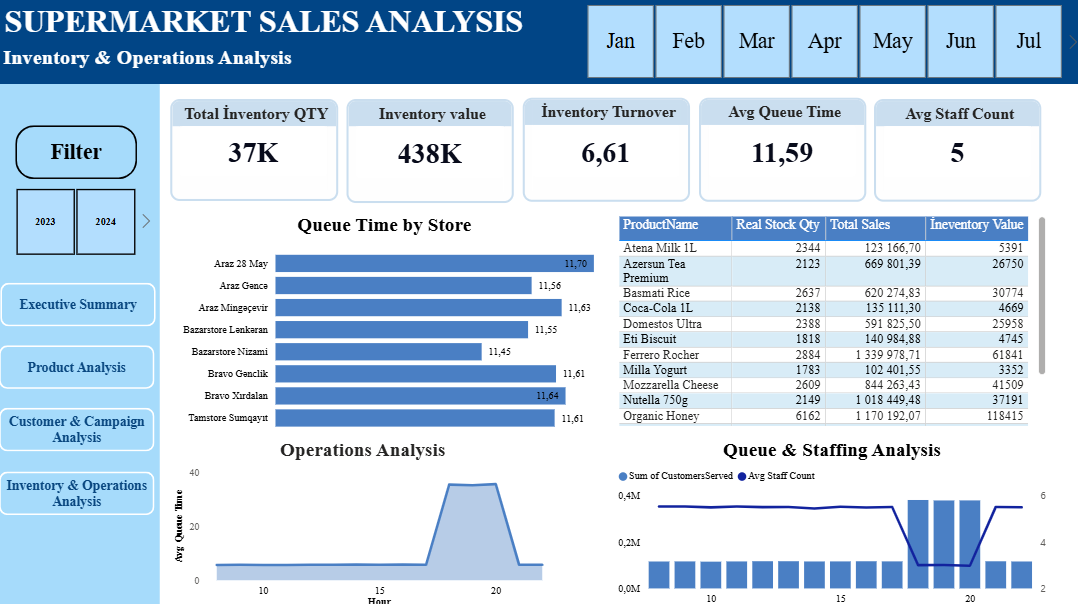

The page's visual inventory and layout, read from the dashboard file:
{"tool":"powerbi","page":{"name":"Inventory & Operations Analysis","canvas":[1280,720],"ordinal":3},"visuals":[{"type":"shape","box":[0,0,1280,100],"z":0},{"type":"textbox","box":[6.7,0,653.3,55],"z":1000},{"type":"shape","box":[0,100,195,620],"z":2000},{"type":"cardVisual","title":"Total İnventory QTY ","fields":{"Data":["Ölçülər.Total Inventory QTY"]},"box":[206.8,117.6,197.3,120.3],"z":3000},{"type":"cardVisual","title":"Inventory value","fields":{"Data":["Ölçülər.Real İneventory Value"]},"box":[414.2,118,197,122],"z":4000},{"type":"cardVisual","title":"İnventory Turnover ","fields":{"Data":["Ölçülər.İnventory Turnover"]},"box":[621.5,116,197,122],"z":5000},{"type":"cardVisual","title":"Avg Staff Count ","fields":{"Data":["Ölçülər.Avg Staff Count"]},"box":[1036,117.7,197,121],"z":6000},{"type":"cardVisual","title":"Avg Queue Time ","fields":{"Data":["Ölçülər.Avg Queue Time"]},"box":[828.8,116.8,197,122],"z":7000},{"type":"slicer","fields":{"Values":["DimDate.MonthName"]},"box":[671.7,0,608.3,100],"z":8000},{"type":"actionButton","box":[25,148.3,143.3,63.3],"z":9000},{"type":"actionButton","box":[7.1,334.3,182.9,51.4],"z":10000},{"type":"actionButton","box":[5.7,407.1,182.9,51.4],"z":11000},{"type":"actionButton","box":[5.7,481.4,182.9,51.4],"z":12000},{"type":"actionButton","box":[5.7,555.7,182.9,51.4],"z":13000},{"type":"textbox","box":[6,50,376,48],"z":15000},{"type":"slicer","fields":{"Values":["DimDate.Year"]},"box":[0,216.7,190,91.7],"z":16000},{"type":"tableEx","fields":{"Values":["DimProduct.ProductName","Ölçülər.Real Stock Qty","Ölçülər.Total Sales","Ölçülər.Real İneventory Value"]},"box":[730,255.2,513.2,252.5],"z":18000},{"type":"clusteredBarChart","title":"Queue Time by Store","fields":{"Y":["Ölçülər.Avg Queue Time"],"Category":["DimStore.StoreName"]},"box":[207.2,252.5,503.6,266.2],"z":19000},{"type":"areaChart","title":"Operations Analysis ","fields":{"Y":["Ölçülər.Avg Queue Time"],"Category":["FactOperations.Hour"]},"box":[207.2,517.3,452.8,203.1],"z":20000},{"type":"lineStackedColumnComboChart","title":"Queue & Staffing Analysis ","fields":{"Category":["FactOperations.Hour"],"Y2":["Ölçülər.Avg Staff Count"],"Y":["Sum(FactOperations.CustomersServed)"]},"box":[730,517,513,203],"z":21000}]}

Visuals, with their boxes in screenshot pixels (x1, y1, x2, y2), scaled from the page's 1280x720 canvas onto the 1078x604 screenshot:
shape: (x1=0, y1=0, x2=1077, y2=84)
textbox: (x1=6, y1=0, x2=556, y2=46)
shape: (x1=0, y1=84, x2=164, y2=603)
"Total İnventory QTY " cardVisual: (x1=174, y1=99, x2=340, y2=200)
"Inventory value" cardVisual: (x1=349, y1=99, x2=515, y2=201)
"İnventory Turnover " cardVisual: (x1=523, y1=97, x2=689, y2=200)
"Avg Staff Count " cardVisual: (x1=873, y1=99, x2=1038, y2=200)
"Avg Queue Time " cardVisual: (x1=698, y1=98, x2=864, y2=200)
slicer - DimDate.MonthName: (x1=566, y1=0, x2=1077, y2=84)
actionButton: (x1=21, y1=124, x2=142, y2=178)
actionButton: (x1=6, y1=280, x2=160, y2=324)
actionButton: (x1=5, y1=342, x2=159, y2=385)
actionButton: (x1=5, y1=404, x2=159, y2=447)
actionButton: (x1=5, y1=466, x2=159, y2=509)
textbox: (x1=5, y1=42, x2=322, y2=82)
slicer - DimDate.Year: (x1=0, y1=182, x2=160, y2=259)
tableEx - DimProduct.ProductName x Ölçülər.Real Stock Qty: (x1=615, y1=214, x2=1047, y2=426)
"Queue Time by Store" clusteredBarChart: (x1=175, y1=212, x2=599, y2=435)
"Operations Analysis " areaChart: (x1=175, y1=434, x2=556, y2=603)
"Queue & Staffing Analysis " lineStackedColumnComboChart: (x1=615, y1=434, x2=1047, y2=603)
